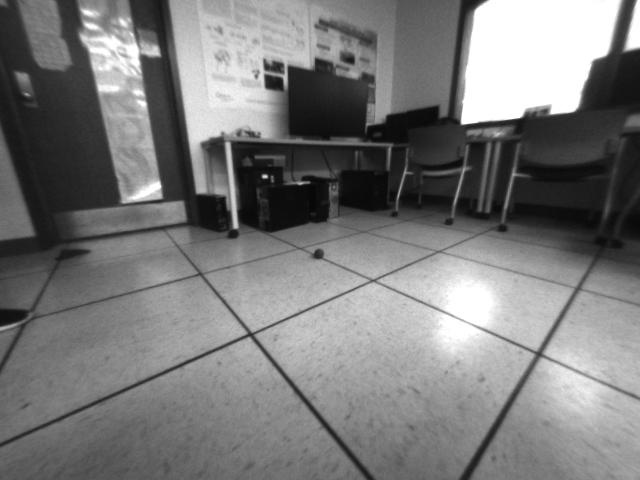dogtoy: (304, 242, 328, 262)
